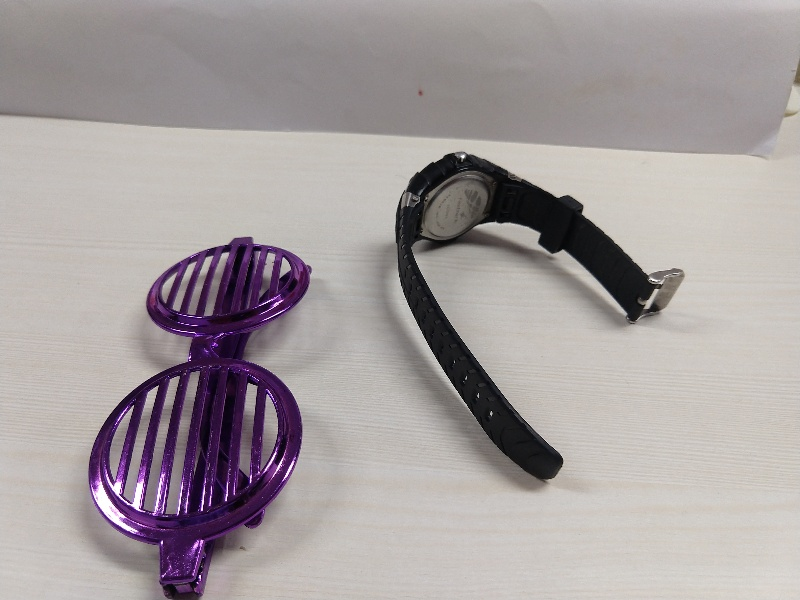shades: (86, 234, 338, 596)
watch: (392, 148, 706, 486)
